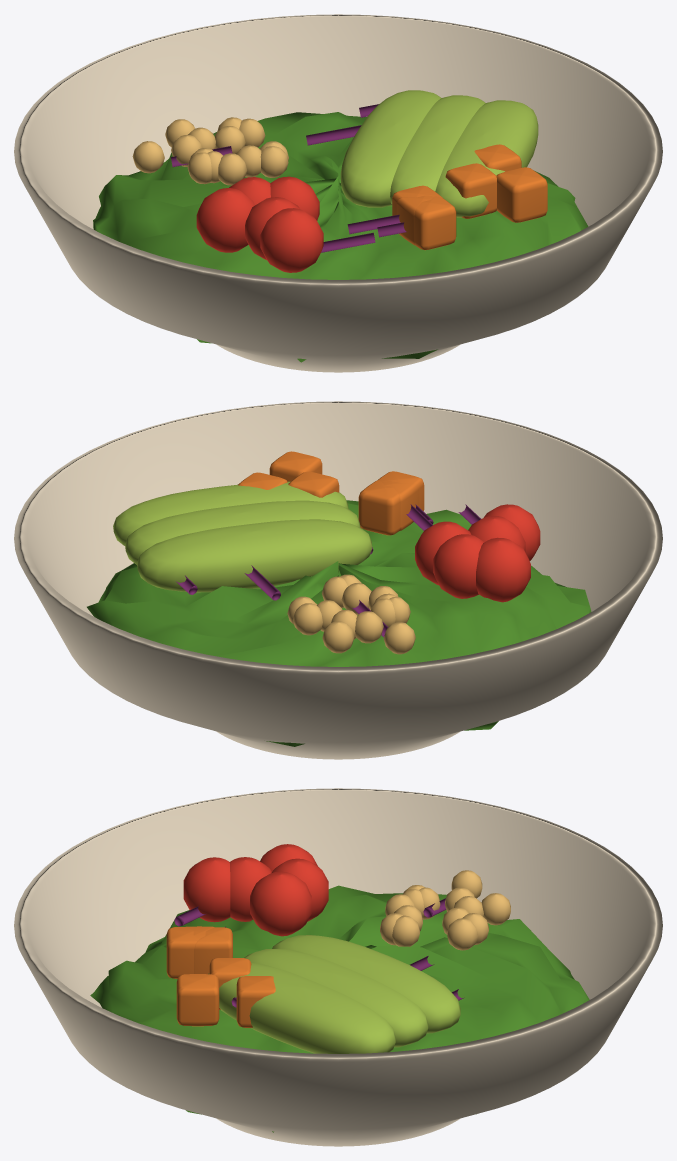
The model's file is salada-tropical.glb.
3 renders of one model, top to bottom at view 1: azimuth 30°, elevation 25°; view 2: azimuth 150°, elevation 25°; view 3: azimuth 270°, elevation 25°, orthographic.
Visible parts, largest first — view 1: salada-tropical; view 2: salada-tropical; view 3: salada-tropical.
Part boxes in pixels (x1=…): salada-tropical: x1=14, y1=14, x2=662, y2=372; salada-tropical: x1=14, y1=401, x2=662, y2=759; salada-tropical: x1=14, y1=788, x2=662, y2=1146.
Bounding box in the file's own units: 0.24 × 0.07 × 0.24.
